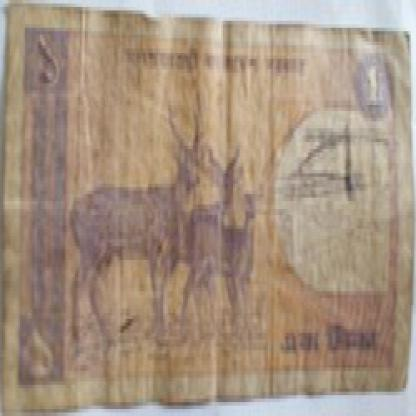One Taka: (280, 322, 380, 364), (25, 319, 62, 381), (359, 56, 393, 114), (32, 31, 63, 90)
